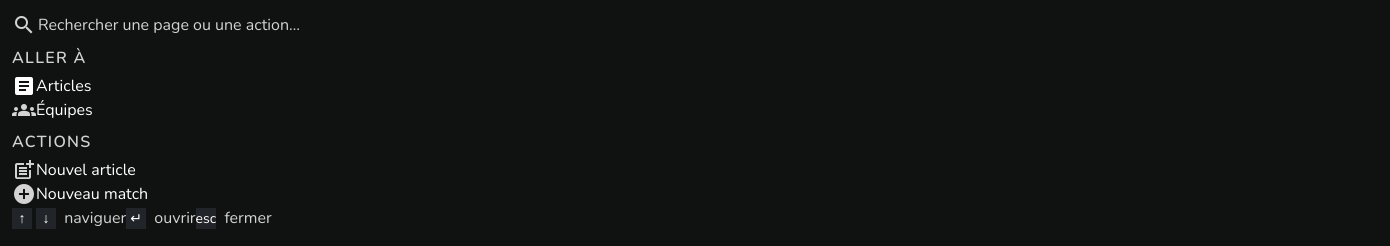
Test case: CommandPaletteComponent › affiche un message explicite plutôt qu’une liste vide
The image size is (1390, 246).
Type "zzz" into the dropdown with placeholder "Rechercher une page ou une action…". click: (707, 25)
box: [36, 12, 1378, 38]
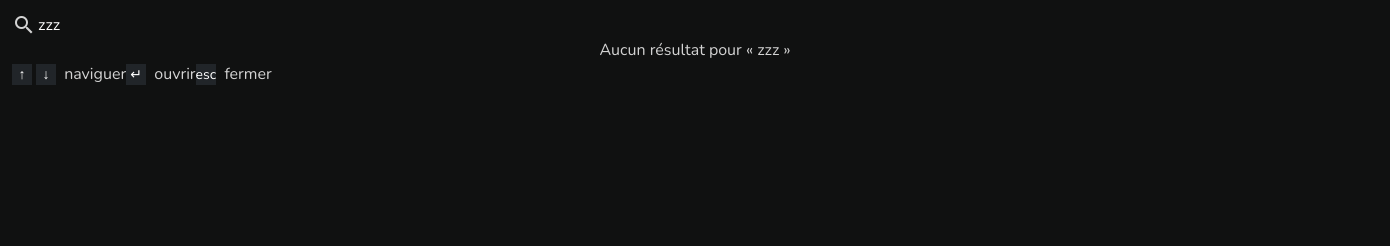
Result: the message "Aucun résultat pour « zzz »" is shown at [599, 39, 790, 61]
